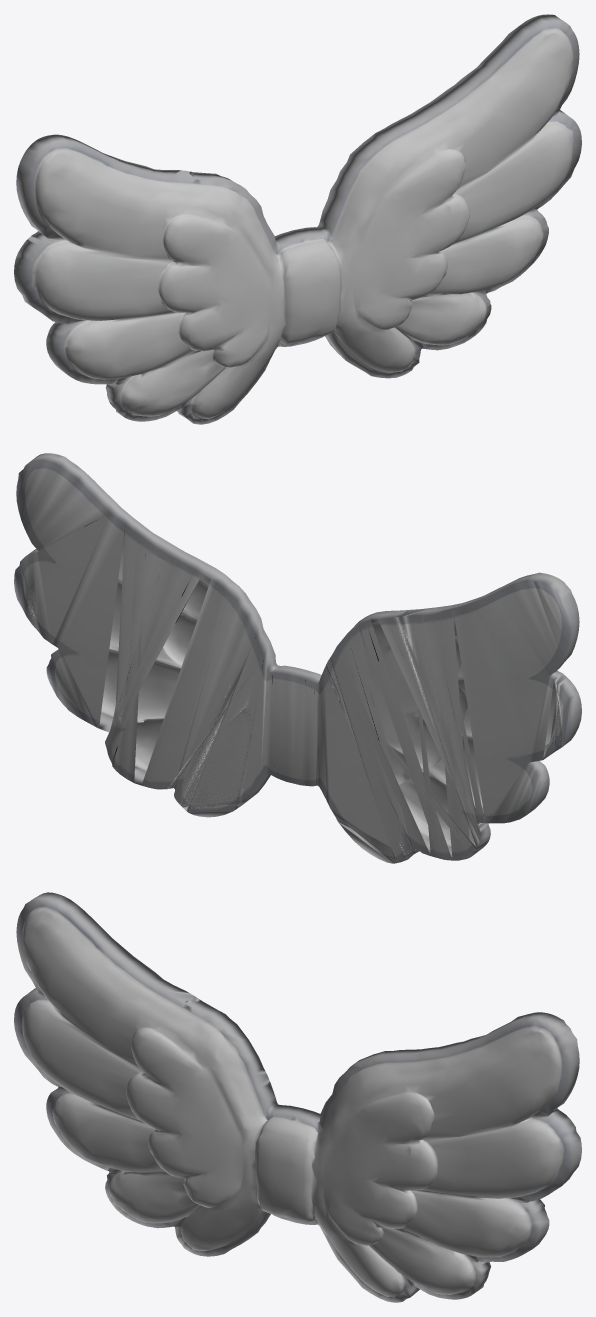
File: back_wings.glb
3 renders of one model, top to bottom at view 1: azimuth 30°, elevation 25°; view 2: azimuth 150°, elevation 25°; view 3: azimuth 330°, elevation 25°, orthographic.
Parts seen in each view (by area): view 1: geometry_0; view 2: geometry_0; view 3: geometry_0.
Part boxes in pixels (box(x1,y1,x2,y2)): geometry_0: box(14, 14, 581, 424); geometry_0: box(14, 453, 581, 863); geometry_0: box(14, 892, 581, 1302).
Size of the model in its own units: 0.9556 by 0.521 by 0.0747.
Materials: 1 (1 with a texture image).
